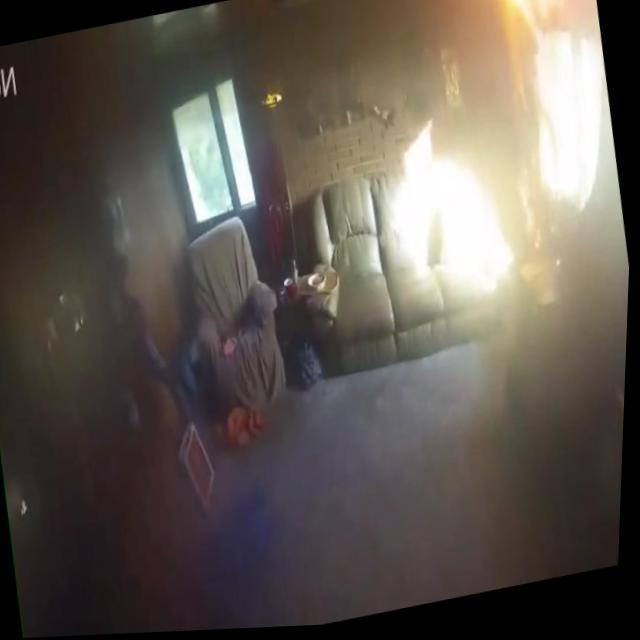fire: (464, 0, 598, 41)
